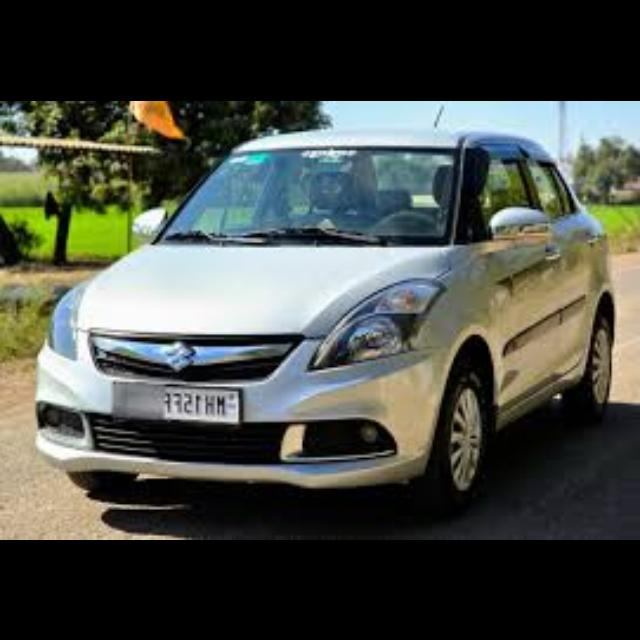number-plate: (157, 386, 244, 421)
vehicles: (38, 122, 626, 519)
